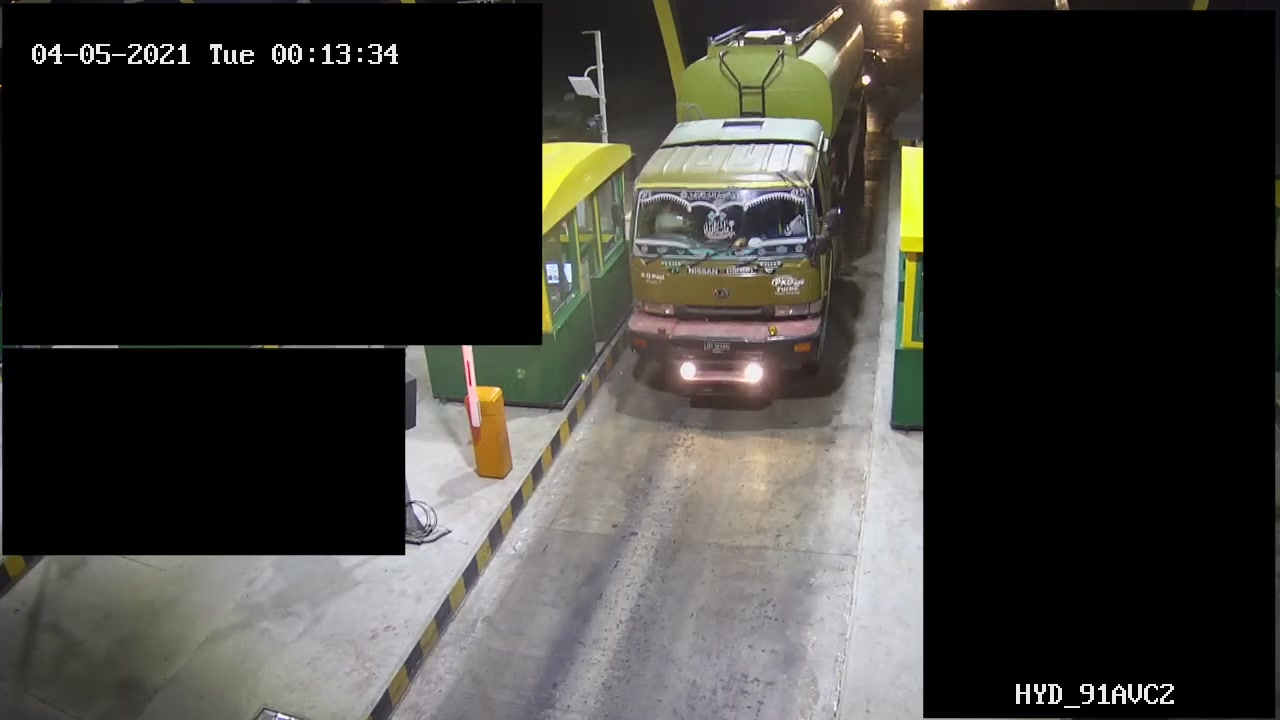F6: (618, 1, 874, 416)
